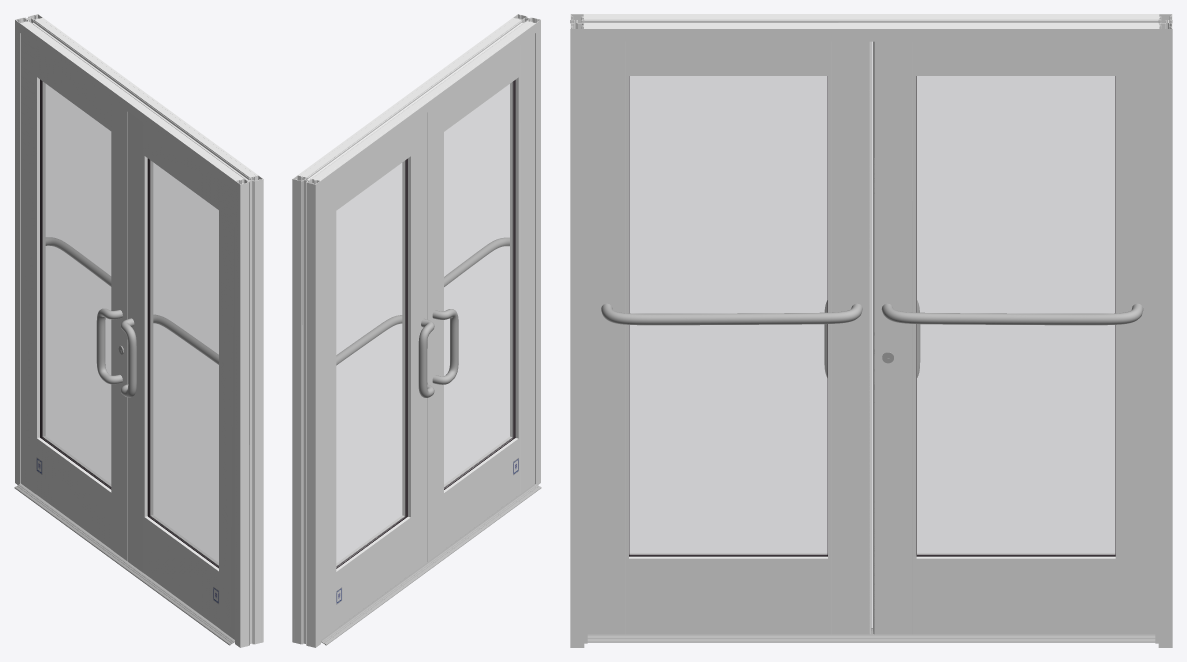
File: Framed_D500_Pair_Animated_WT.glb
3 renders of one model, left to right at view 1: azimuth 30°, elevation 25°; view 2: azimuth 150°, elevation 25°; view 3: azimuth 270°, elevation 25°, orthographic. The views are drawn at different scales.
Visible parts, largest first — view 1: D500.029, D500.016, D500, D500.025, PROFILE_curve_.018, D500.010, D500.001, PROFILE_curve_.019, D500.026, D500.011, PROFILE_curve_.014, PROFILE_curve_.008 (+11 smaller); view 2: D500.016, D500.029, D500.001, PROFILE_curve_.022, D500.010, D500.025, D500, PROFILE_curve_.023, D500.026, D500.011, PROFILE_curve_.014, PROFILE_curve_.008 (+11 smaller); view 3: D500.029, D500.016, D500.010, D500.025, D500.001, D500, D500.011, D500.026, PROFILE_curve_.008, PROFILE_curve_.023, PROFILE_curve_.019, PROFILE_curve_.014 (+7 smaller).
Boxes of the visible parts, x1,y1,x2,y2 form: D500.029: (148,159,218,567); D500.016: (40,80,110,488); D500: (20,33,45,494); D500.025: (128,112,153,573); PROFILE_curve_.018: (242,179,261,647); D500.010: (111,100,127,561); D500.001: (219,179,234,639); PROFILE_curve_.019: (235,175,263,647); D500.026: (144,515,218,627); D500.011: (37,436,111,548); PROFILE_curve_.014: (23,18,255,180); PROFILE_curve_.008: (20,18,257,189); D500.016: (336,159,407,567); D500.029: (444,80,515,488); D500.001: (510,34,534,494); PROFILE_curve_.022: (294,179,313,647); D500.010: (402,113,427,573); D500.025: (427,100,443,561); D500: (321,179,336,639); PROFILE_curve_.023: (292,175,320,647); D500.026: (444,436,518,549); D500.011: (336,515,410,628); PROFILE_curve_.014: (300,18,532,180); PROFILE_curve_.008: (298,18,535,189); D500.029: (629,76,827,556); D500.016: (917,76,1114,556); D500.010: (872,41,916,634); D500.025: (828,41,871,634); D500.001: (587,41,628,634); D500: (1115,41,1155,634); D500.011: (916,553,1115,634); D500.026: (629,553,827,634); PROFILE_curve_.008: (584,14,1158,41); PROFILE_curve_.023: (1158,14,1172,647); PROFILE_curve_.019: (570,14,584,647); PROFILE_curve_.014: (584,15,1158,27).
Bounding box in the file's own units: 0.2162 × 2.18 × 1.92.
Materials: 7 (1 with a texture image).
